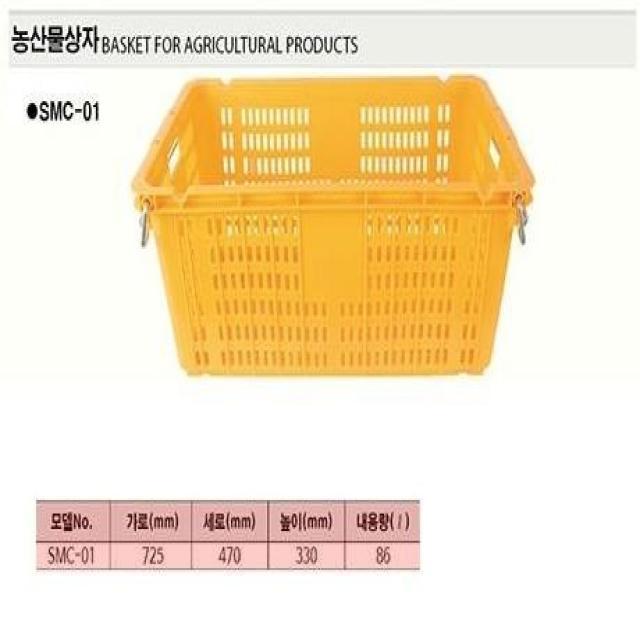basket: (134, 80, 533, 374)
